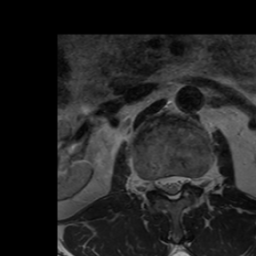CCS_normal: (168, 168, 177, 206)
LFS_normal: (189, 167, 200, 195)
LLS_normal: (177, 167, 188, 196)
RFS_normal: (145, 170, 156, 199)
RLS_normal: (156, 169, 168, 200)
